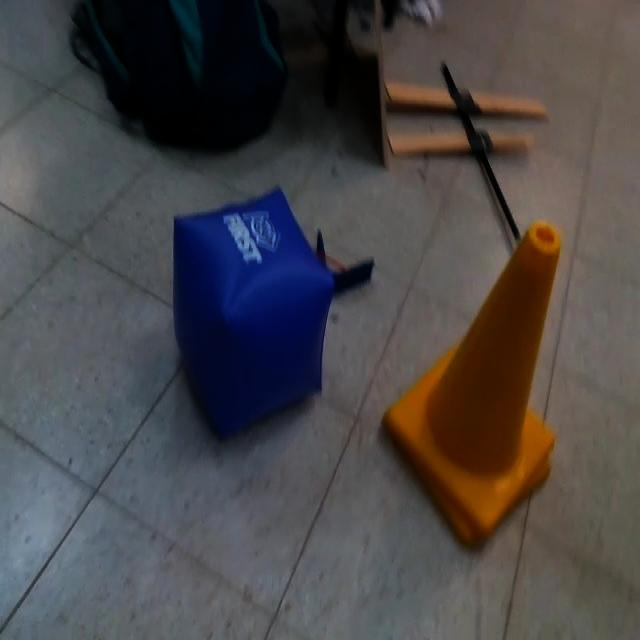cone: (380, 222, 564, 553)
cube: (174, 183, 338, 441)
